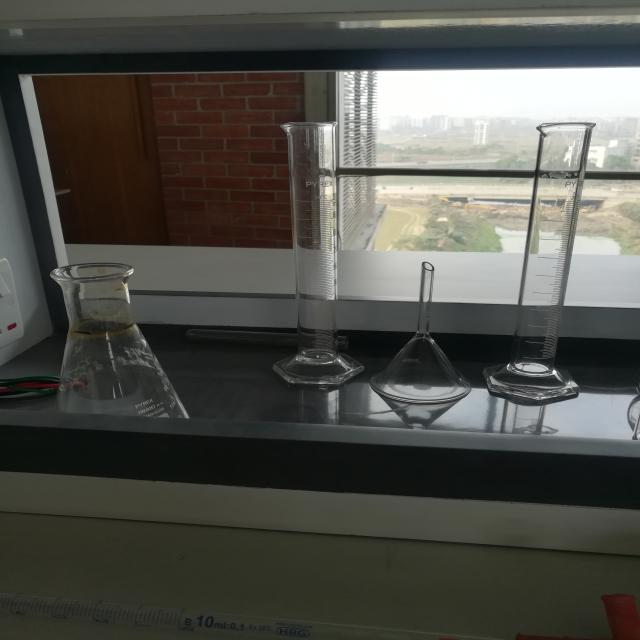Conical_Flask: (33, 240, 201, 460)
Funnel: (377, 238, 468, 410)
Measuring_Cylinder: (472, 108, 598, 408), (241, 89, 358, 387)
